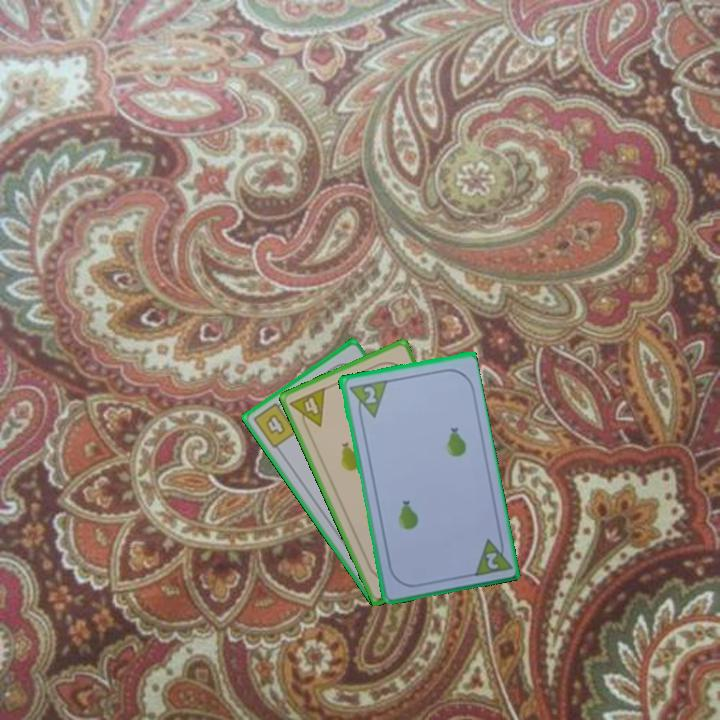2p: (469, 532, 513, 579), (345, 376, 389, 422)
4b: (249, 397, 299, 451)
4p: (286, 384, 328, 435)
